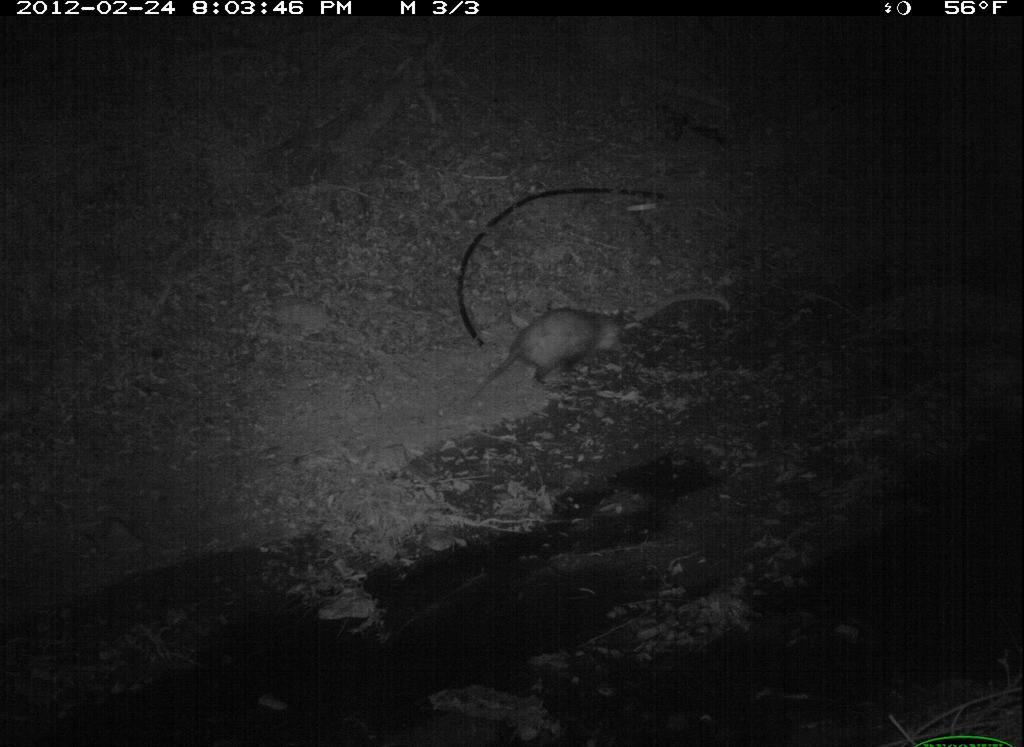opossum: (450, 297, 656, 405)
